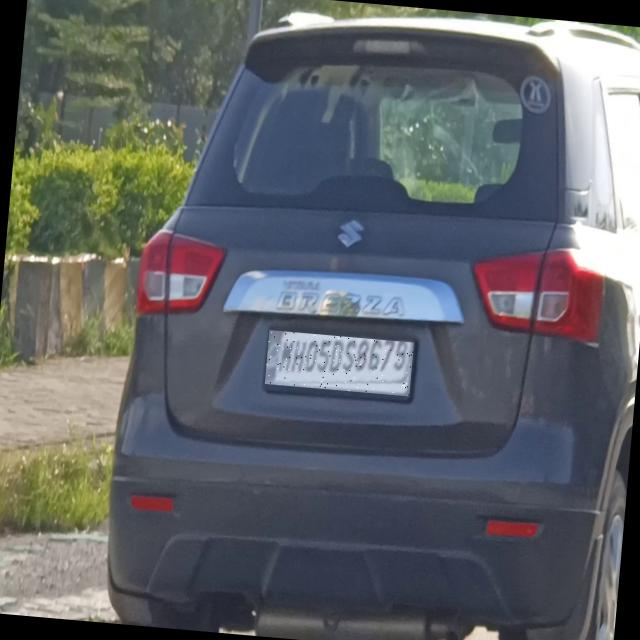Plate: (266, 331, 415, 397)
